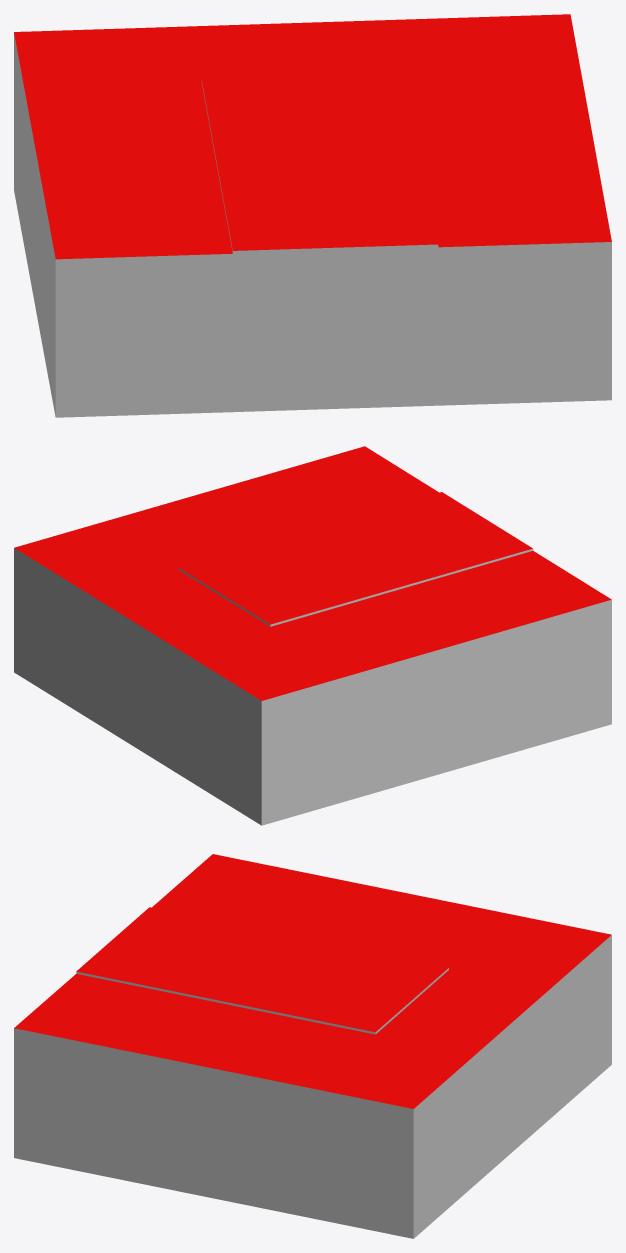
The picture shows the model from 3 angles, top to bottom: view 1: azimuth 30°, elevation 25°; view 2: azimuth 150°, elevation 25°; view 3: azimuth 270°, elevation 25°; orthographic projection. The views are drawn at different scales.
Bounding box in the file's own units: 10.95 × 2.65 × 10.85.
